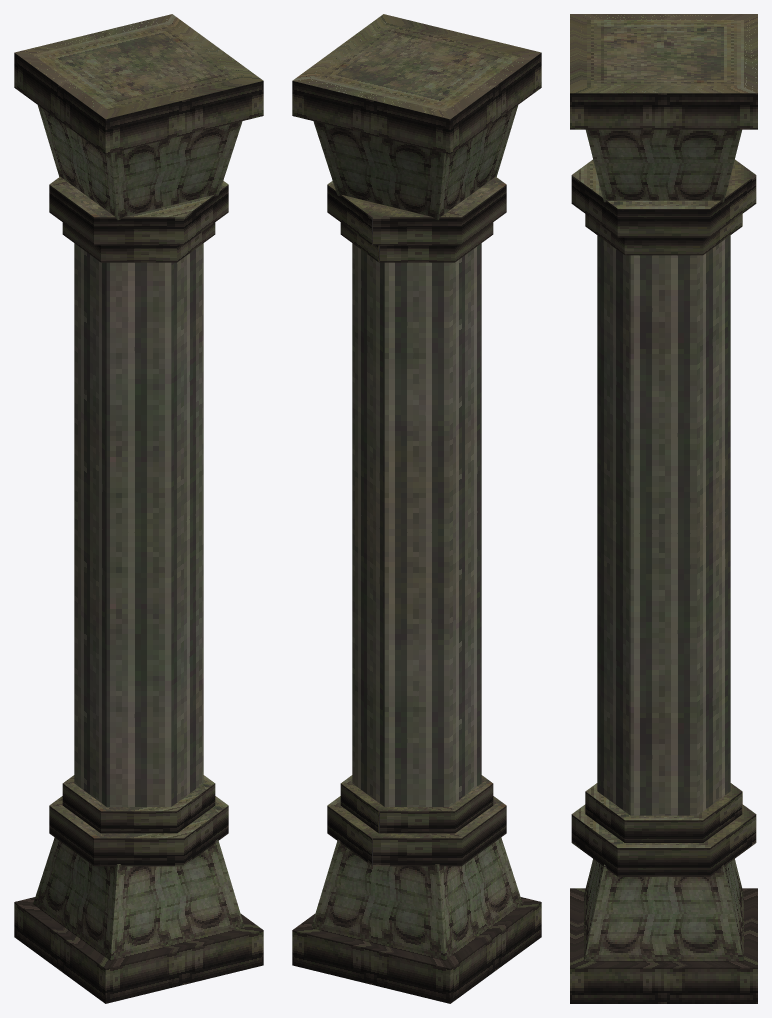
Rendered from pillar.glb.
3 views of the same model, side by side, from view 1: azimuth 30°, elevation 25°; view 2: azimuth 150°, elevation 25°; view 3: azimuth 270°, elevation 25° (orthographic). The views are drawn at different scales.
Parts seen in each view (by area): view 1: Cylinder.019; view 2: Cylinder.019; view 3: Cylinder.019.
Part boxes in pixels (left/top/right/bottom): Cylinder.019: left=14, top=14, right=263, bottom=1003; Cylinder.019: left=292, top=14, right=541, bottom=1003; Cylinder.019: left=570, top=14, right=757, bottom=1003.
Bounding box in the file's own units: 1.13 × 6.04 × 1.13.
1 material, 1 textured.
